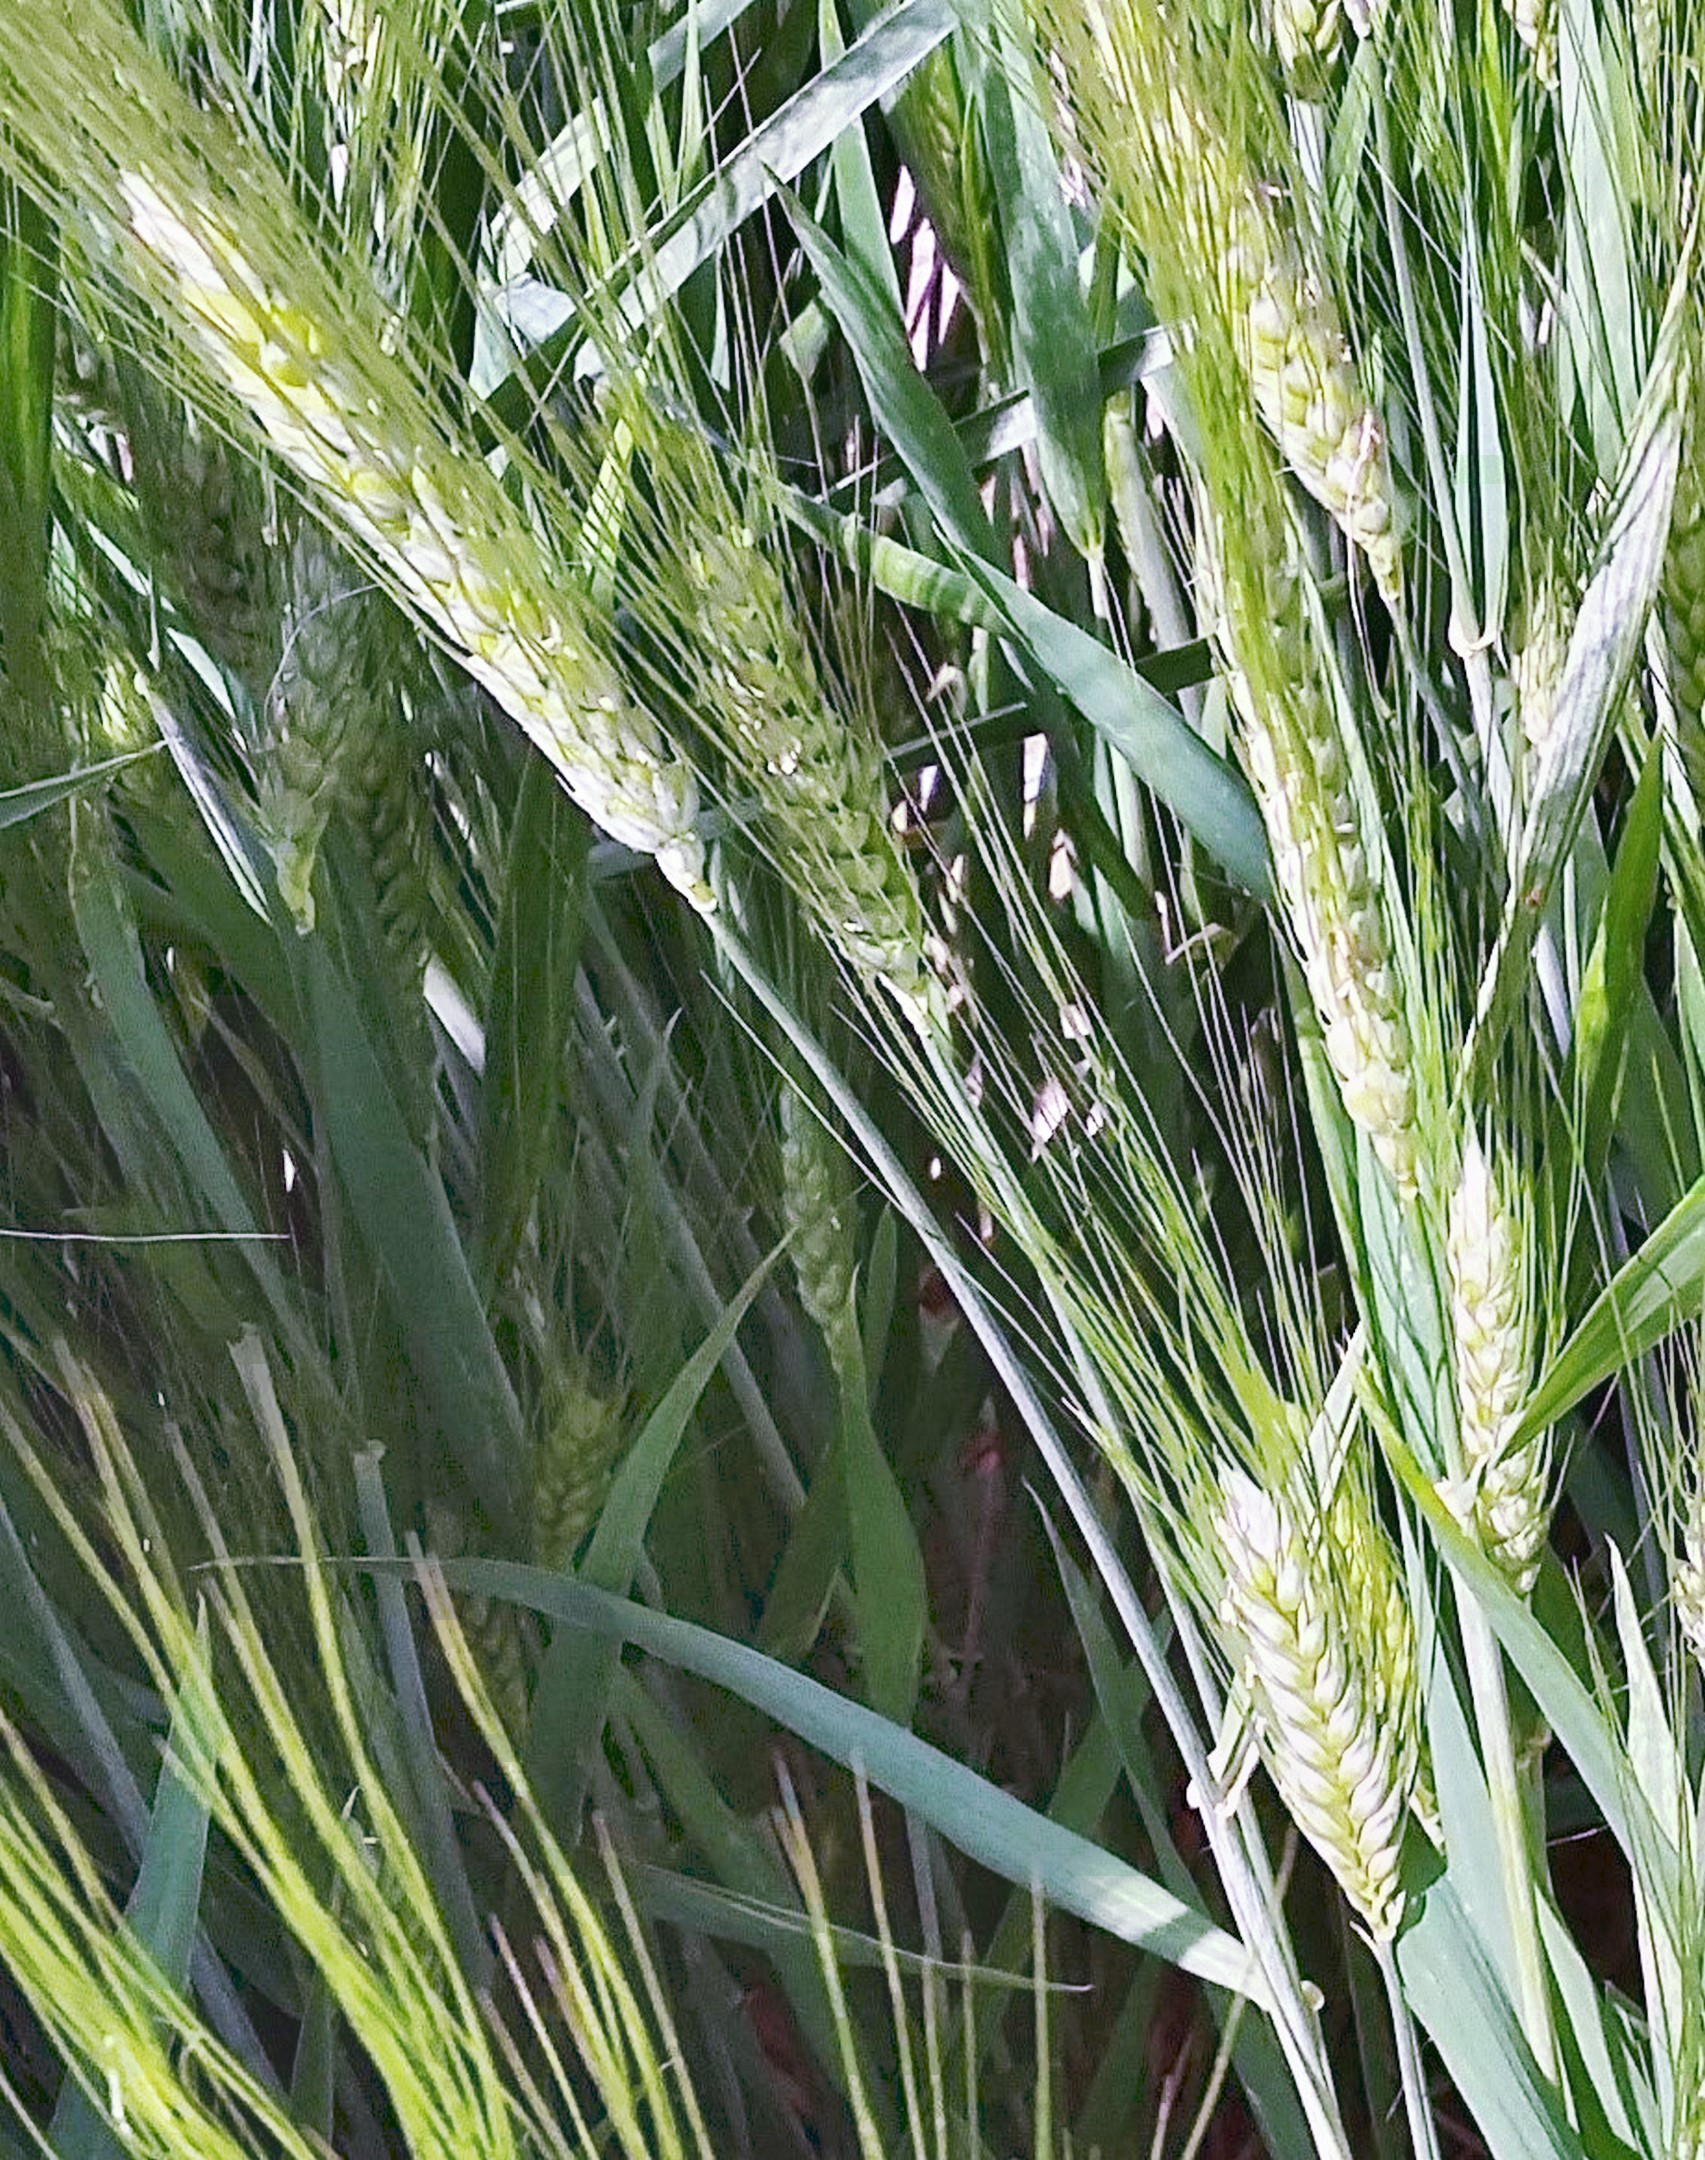Healthy Wheat: (89, 147, 714, 924), (1193, 1469, 1410, 1909)
